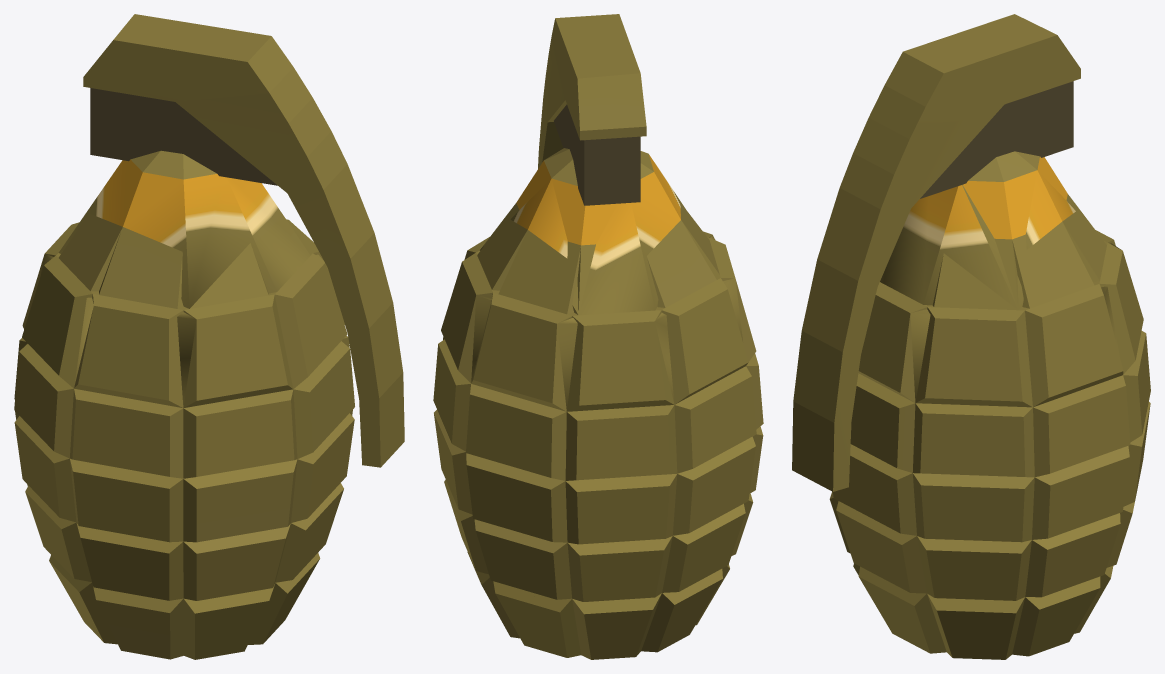
File: item_grenade_gold.glb
The picture shows the model from 3 angles, left to right: view 1: azimuth 30°, elevation 25°; view 2: azimuth 150°, elevation 25°; view 3: azimuth 270°, elevation 25°; orthographic projection. The views are drawn at different scales.
Parts seen in each view (by area): view 1: Hand_grenade, Hand_grenade_handle; view 2: Hand_grenade, Hand_grenade_handle; view 3: Hand_grenade, Hand_grenade_handle.
Boxes of the visible parts, bbox=[...] form: Hand_grenade: bbox=[14, 150, 354, 659]; Hand_grenade_handle: bbox=[83, 14, 404, 467]; Hand_grenade: bbox=[433, 148, 763, 659]; Hand_grenade_handle: bbox=[538, 14, 646, 205]; Hand_grenade: bbox=[829, 151, 1150, 659]; Hand_grenade_handle: bbox=[792, 14, 1080, 491].
Bounding box in the file's own units: 0.1107 × 0.213 × 0.1197.
1 material, 1 textured.
